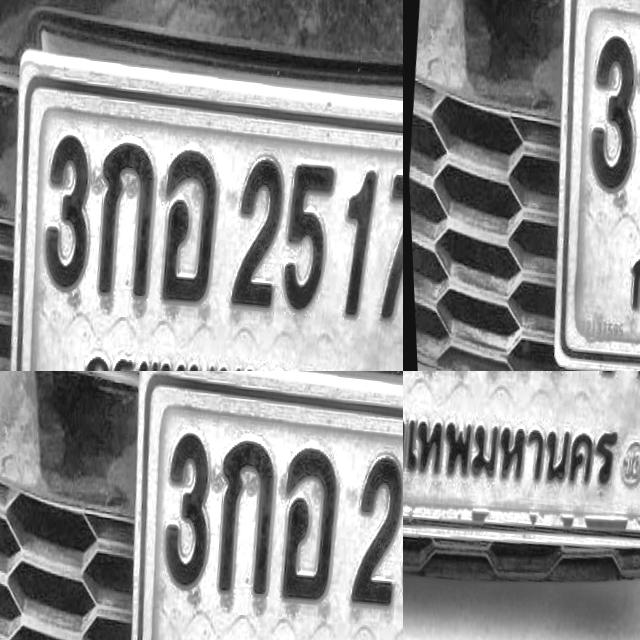license-plate: (0, 0, 403, 371), (403, 371, 640, 618)
